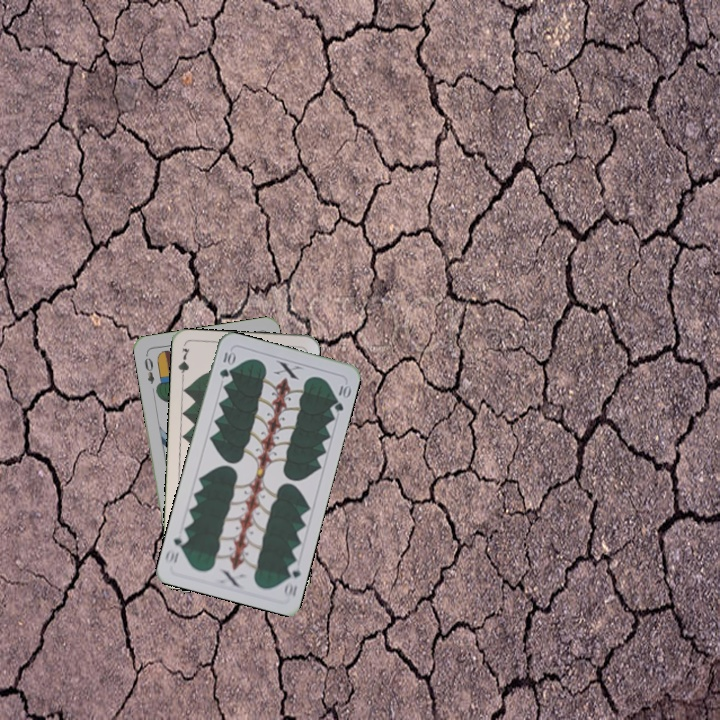EO: (140, 350, 157, 386)
G10: (280, 558, 303, 599), (215, 346, 237, 381)
G7: (174, 344, 192, 384)
